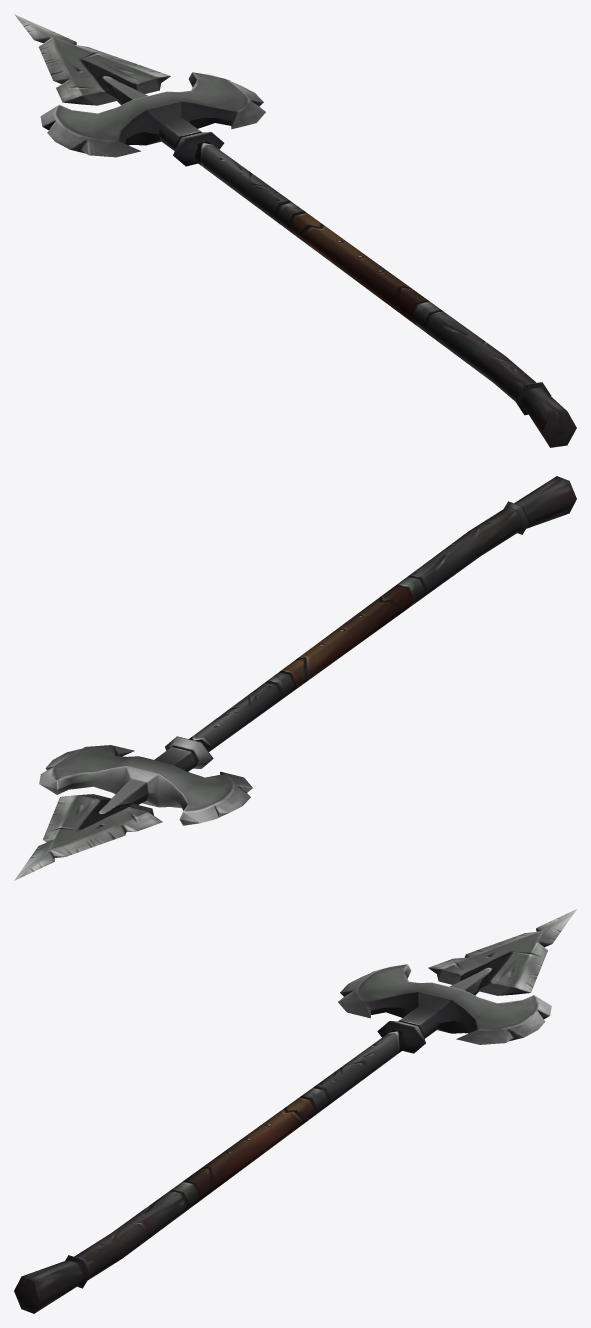
The model's file is Spear02.fbx.
3 views of the same model, one above another, from view 1: azimuth 30°, elevation 25°; view 2: azimuth 150°, elevation 25°; view 3: azimuth 330°, elevation 25° (orthographic). The views are drawn at different scales.
Visible parts, largest first — view 1: Spear02_el2, Spear02_el1B, Spear02_el1A; view 2: Spear02_el2, Spear02_el1B, Spear02_el1A; view 3: Spear02_el2, Spear02_el1B, Spear02_el1A.
Boxes of the visible parts, left/top/right/bottom form: Spear02_el2: left=195, top=141, right=576, bottom=447; Spear02_el1B: left=40, top=72, right=265, bottom=166; Spear02_el1A: left=14, top=14, right=170, bottom=105; Spear02_el2: left=189, top=476, right=576, bottom=751; Spear02_el1B: left=39, top=736, right=252, bottom=825; Spear02_el1A: left=14, top=794, right=162, bottom=880; Spear02_el2: left=14, top=1029, right=405, bottom=1313; Spear02_el1B: left=338, top=964, right=551, bottom=1053; Spear02_el1A: left=428, top=909, right=576, bottom=995.
Size of the model in its own units: 0.524 by 0.0877 by 2.57.
